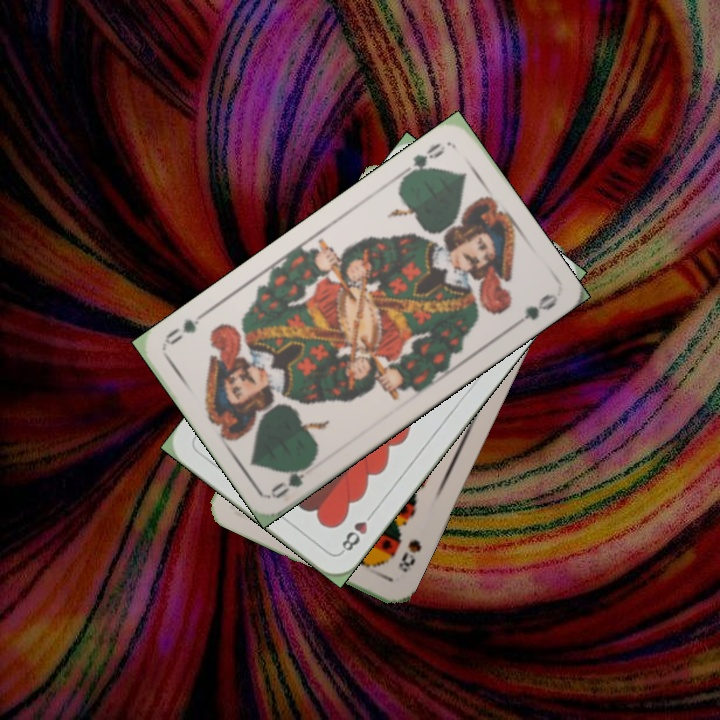GO: (267, 455, 317, 501), (397, 138, 448, 179)
H8: (336, 506, 378, 556)
S8: (394, 535, 424, 575)
